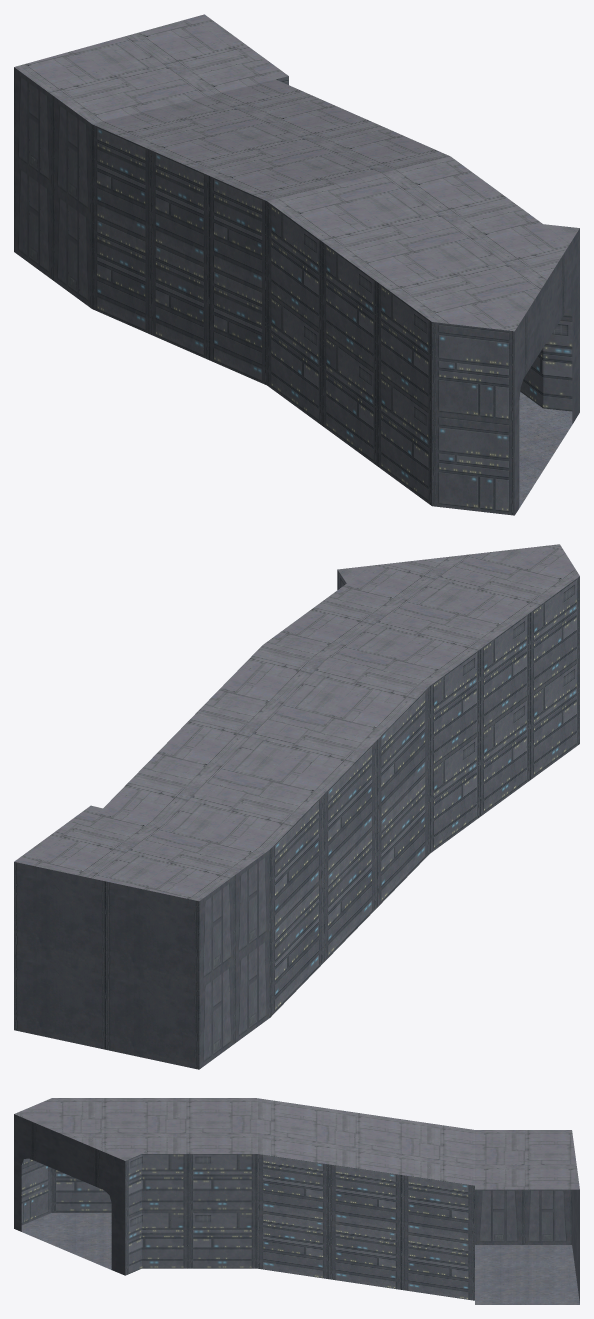
File: mun_corl_starport_s01_u01_r14_departures2_mesh_r14.fbx
3 views of the same model, one above another, from view 1: azimuth 30°, elevation 25°; view 2: azimuth 150°, elevation 25°; view 3: azimuth 270°, elevation 25° (orthographic). The views are drawn at different scales.
Visible parts, largest first — view 1: mesh_node; view 2: mesh_node; view 3: mesh_node.
Part boxes in pixels (x1,y1,x2,y2): mesh_node: (14, 14, 579, 515); mesh_node: (14, 544, 579, 1069); mesh_node: (14, 1098, 579, 1304).
Bounding box in the file's own units: 7.04 × 7.66 × 26.75.
